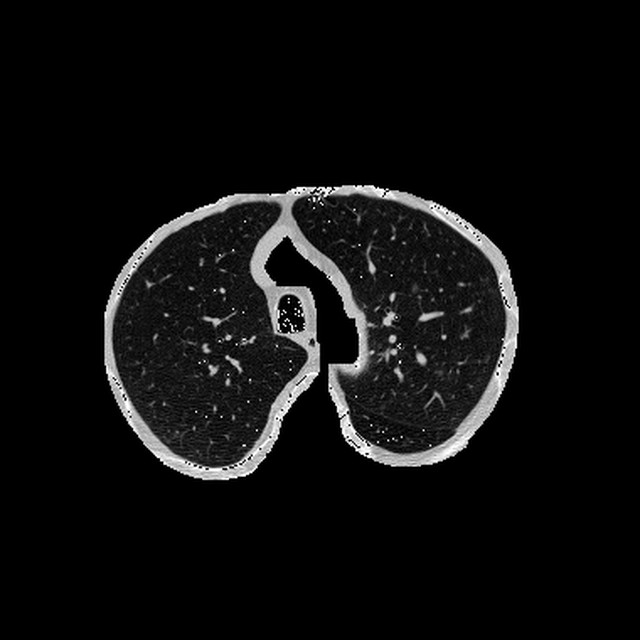PN: (411, 285, 418, 291)
